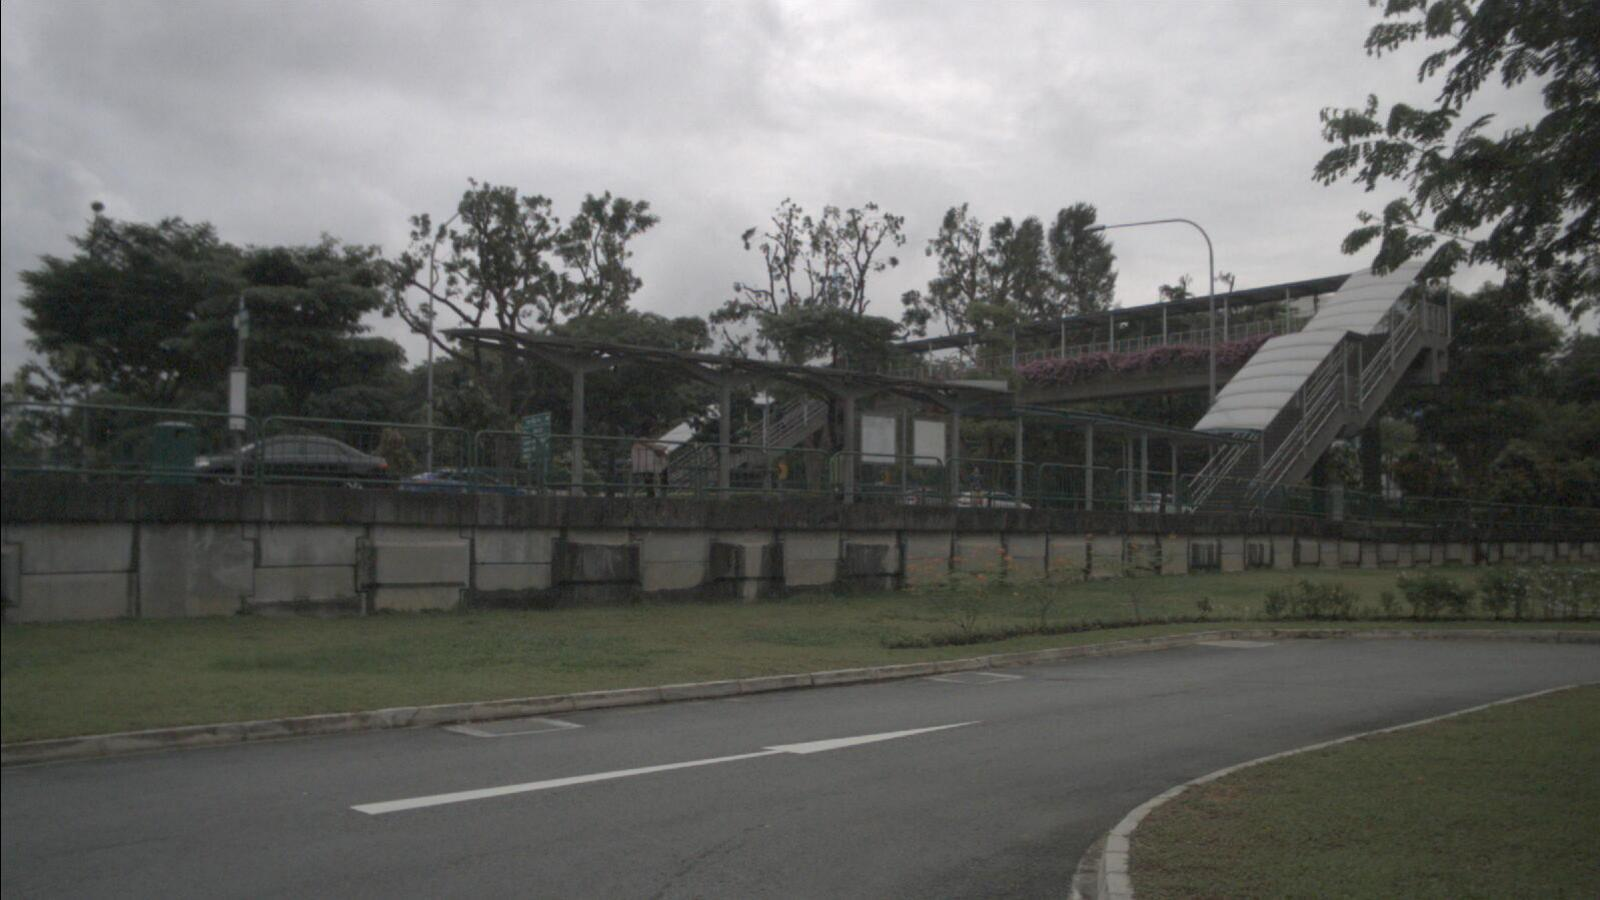human.pedestrian.adult-pedestrian.moving: (94, 406, 124, 491)
